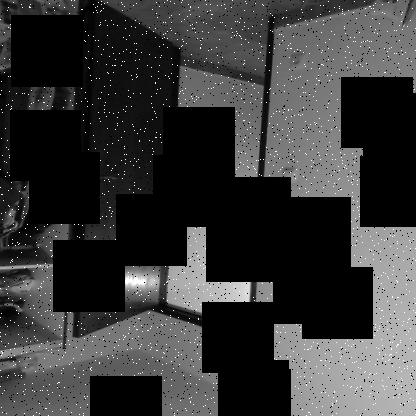Porte: (71, 0, 275, 343)
